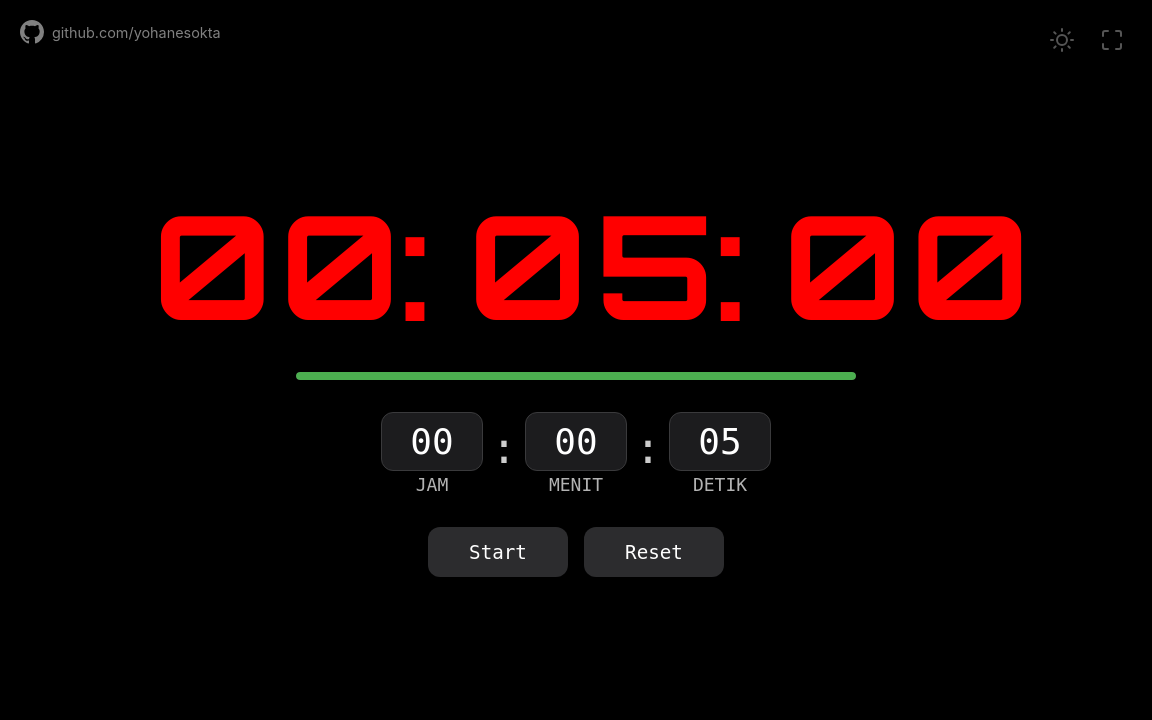
Test: Timer Component › hides inputs and reset button when running
Expected: the number field with test id "hours-input" holds "0", [381,412,483,471]
Expected: the number field with test id "minutes-input" holds "0", [525,412,627,471]
What coordinates should you click on to do the following:
click the button "Start"
I would click on:
 (498, 552)
Its box is [428,527,568,577].
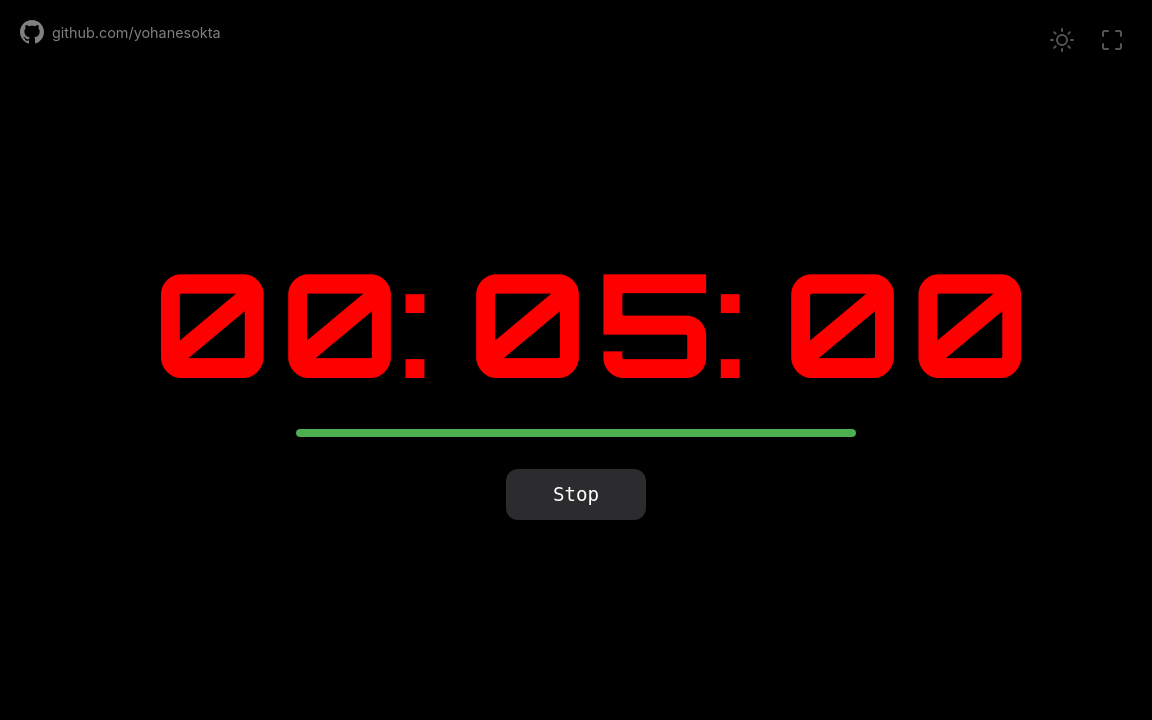
Now the number field with test id "hours-input" is gone
Now the number field with test id "minutes-input" is gone
Now the number field with test id "seconds-input" is gone
